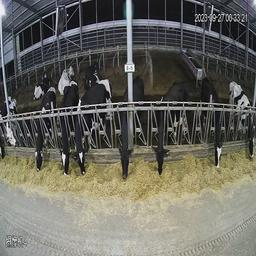cow: (73, 80, 114, 169), (152, 77, 187, 175), (119, 76, 148, 178), (198, 75, 223, 171), (229, 81, 254, 161), (35, 87, 57, 172), (59, 78, 77, 177), (5, 98, 19, 151), (82, 62, 105, 91), (56, 64, 77, 93), (33, 74, 50, 97)
